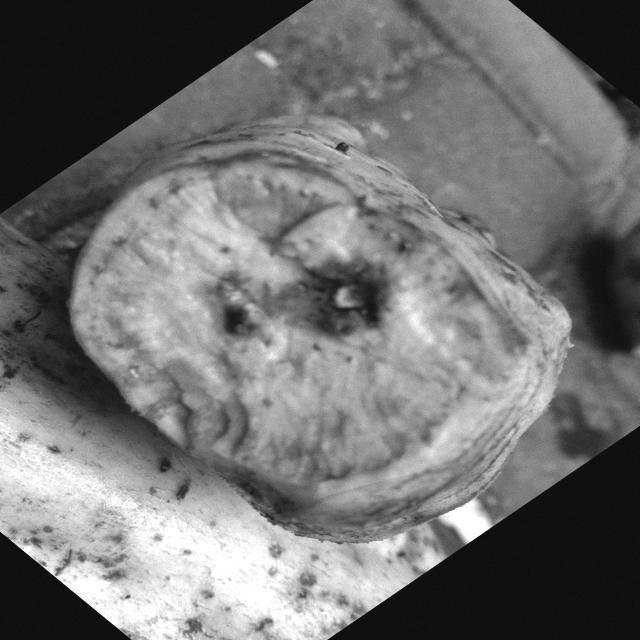Sick Sweet Potato_Tuber Rot: (73, 162, 495, 485)
